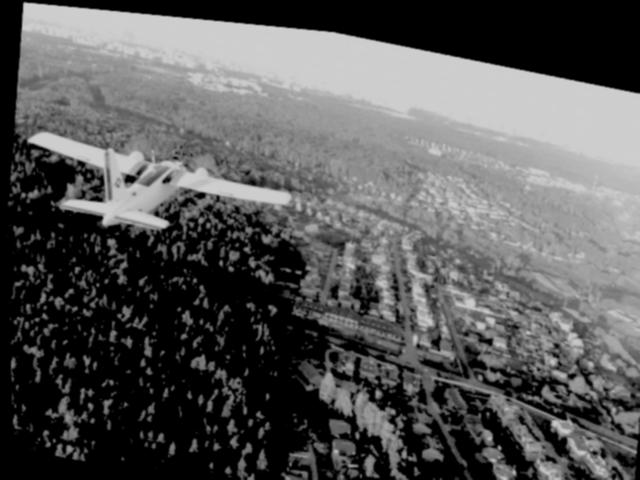hedef: (4, 110, 311, 267)
